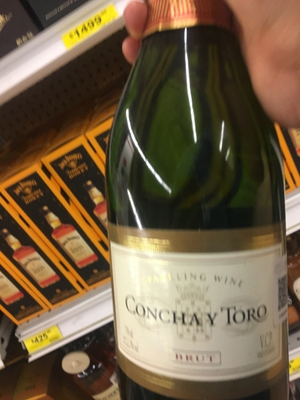brut: (103, 18, 288, 400)
